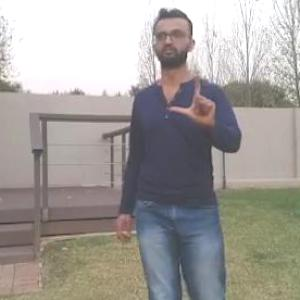land_hand: (164, 61, 215, 122)
